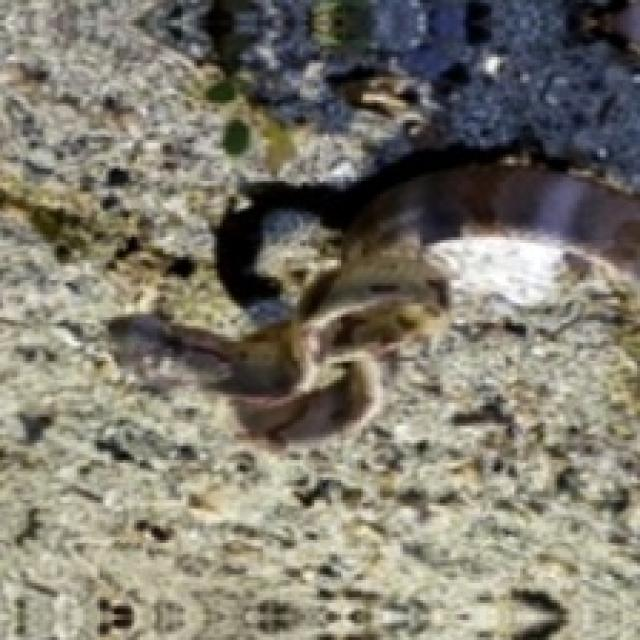dog-toothed cat snake: (109, 146, 637, 446)
